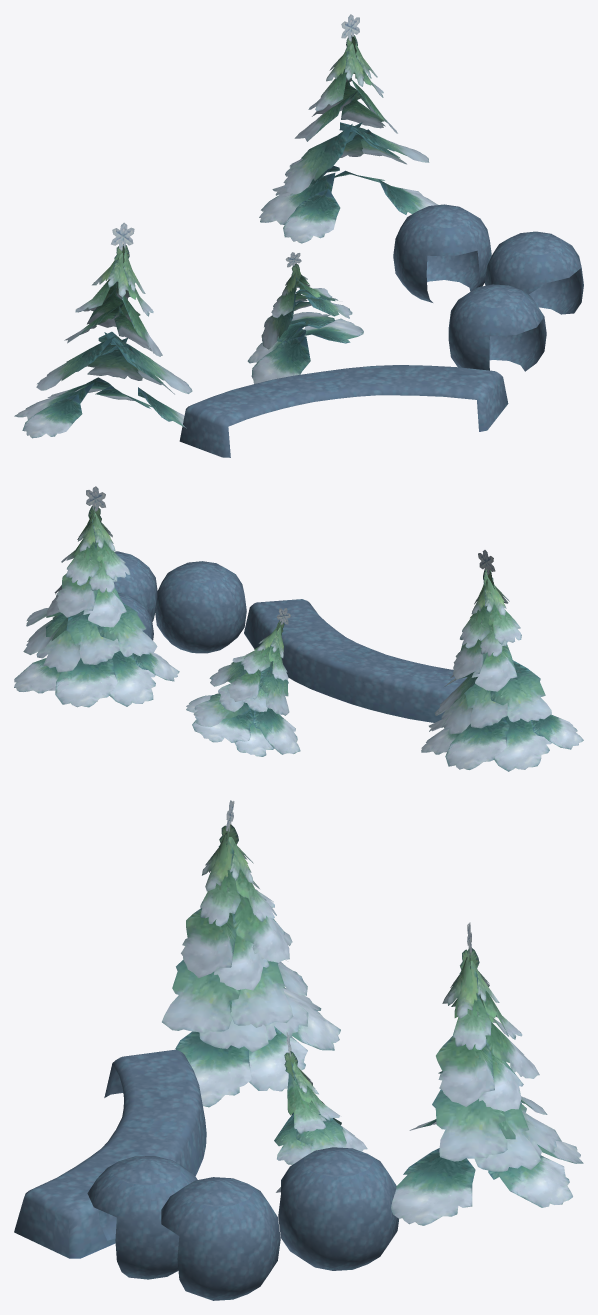
The model's file is pref_sm_beach_bk_winter_pointmol_longplant_R01_lv0.fbx.
The picture shows the model from 3 angles, top to bottom: view 1: azimuth 30°, elevation 25°; view 2: azimuth 150°, elevation 25°; view 3: azimuth 270°, elevation 25°; orthographic projection. The views are drawn at different scales.
Visible parts, largest first — view 1: pref_sm_beach_bk_winter_pointmol_longplant_R01_lv0; view 2: pref_sm_beach_bk_winter_pointmol_longplant_R01_lv0; view 3: pref_sm_beach_bk_winter_pointmol_longplant_R01_lv0.
Boxes of the visible parts, bbox=[...] form: pref_sm_beach_bk_winter_pointmol_longplant_R01_lv0: bbox=[14, 14, 583, 457]; pref_sm_beach_bk_winter_pointmol_longplant_R01_lv0: bbox=[14, 486, 583, 771]; pref_sm_beach_bk_winter_pointmol_longplant_R01_lv0: bbox=[14, 800, 583, 1300].
Size of the model in its own units: 20.02 by 10.25 by 14.47.
